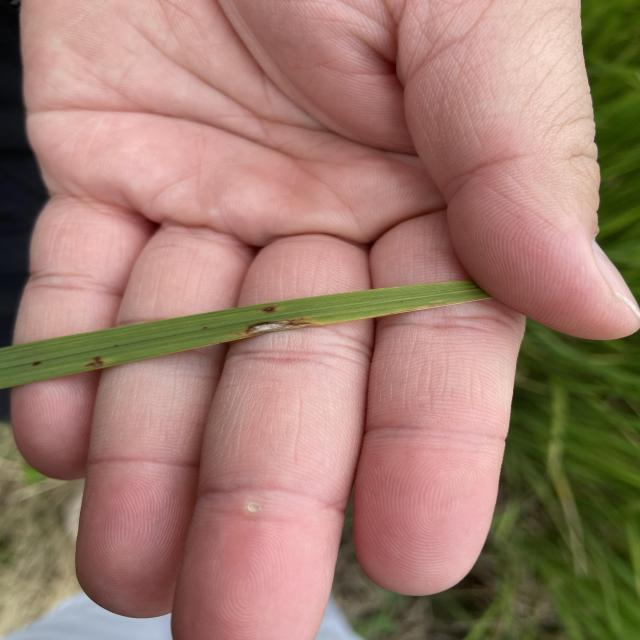Dao on: (236, 318, 320, 339), (83, 356, 104, 368), (261, 305, 278, 314)
